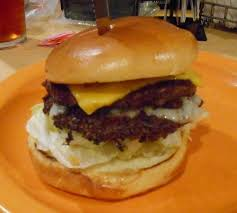hamburger: (26, 18, 196, 199)
